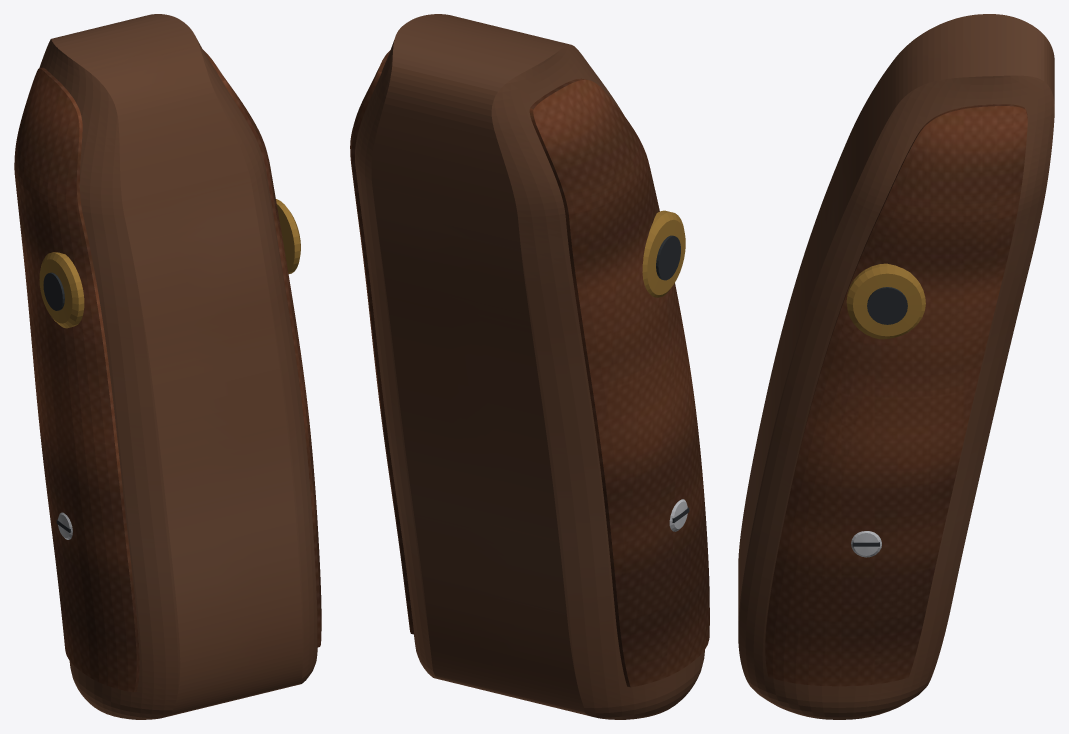
The model's file is empunhadura_madeira_38.glb.
3 views of the same model, side by side, from view 1: azimuth 30°, elevation 25°; view 2: azimuth 150°, elevation 25°; view 3: azimuth 270°, elevation 25° (orthographic). The views are drawn at different scales.
Parts seen in each view (by area): view 1: empunhadura_madeira_38_madeira_escura, empunhadura_madeira_38_madeira_punho, empunhadura_madeira_38_latao, empunhadura_madeira_38_aco_oxidado; view 2: empunhadura_madeira_38_madeira_escura, empunhadura_madeira_38_madeira_punho, empunhadura_madeira_38_latao, empunhadura_madeira_38_aco_oxidado; view 3: empunhadura_madeira_38_madeira_punho, empunhadura_madeira_38_madeira_escura, empunhadura_madeira_38_latao, empunhadura_madeira_38_aco_oxidado, empunhadura_madeira_38_aco_inox.
Boxes of the visible parts, bbox=[...] form: empunhadura_madeira_38_madeira_escura: bbox=[39, 14, 317, 719]; empunhadura_madeira_38_madeira_punho: bbox=[14, 50, 321, 692]; empunhadura_madeira_38_latao: bbox=[39, 199, 300, 328]; empunhadura_madeira_38_aco_oxidado: bbox=[43, 272, 70, 532]; empunhadura_madeira_38_madeira_escura: bbox=[355, 14, 704, 719]; empunhadura_madeira_38_madeira_punho: bbox=[350, 50, 709, 687]; empunhadura_madeira_38_latao: bbox=[642, 210, 685, 297]; empunhadura_madeira_38_aco_oxidado: bbox=[656, 235, 689, 522]; empunhadura_madeira_38_madeira_punho: bbox=[765, 104, 1027, 686]; empunhadura_madeira_38_madeira_escura: bbox=[738, 14, 1054, 719]; empunhadura_madeira_38_latao: bbox=[846, 263, 925, 339]; empunhadura_madeira_38_aco_oxidado: bbox=[852, 287, 907, 546]; empunhadura_madeira_38_aco_inox: bbox=[851, 531, 881, 557].
Size of the model in its own units: 0.0335 by 0.0812 by 0.0373.
5 materials, 2 textured.
